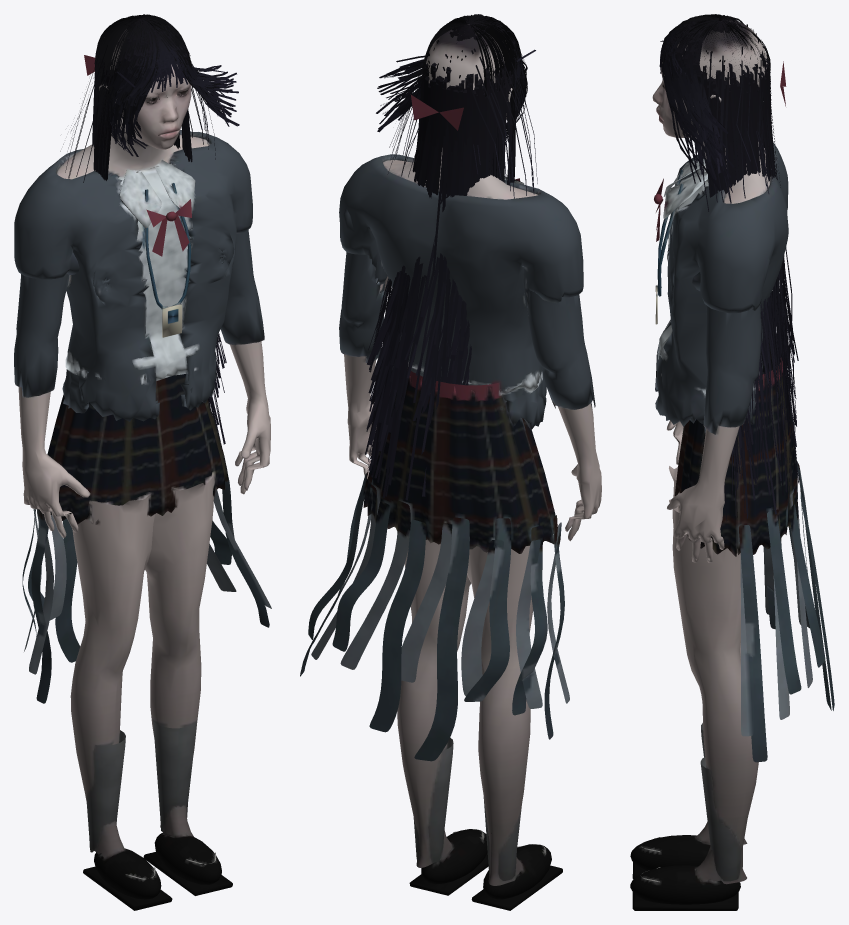
File: corridor.glb
3 views of the same model, side by side, from view 1: azimuth 30°, elevation 25°; view 2: azimuth 150°, elevation 25°; view 3: azimuth 270°, elevation 25° (orthographic). The views are drawn at different scales.
Visible parts, largest first — view 1: GhostBody, GhostHair; view 2: GhostBody, GhostHair; view 3: GhostBody, GhostHair.
Part boxes in pixels (bbox=[...]): GhostBody: bbox=[14, 29, 271, 910]; GhostHair: bbox=[60, 14, 239, 444]; GhostBody: bbox=[300, 24, 601, 910]; GhostHair: bbox=[364, 14, 537, 500]; GhostBody: bbox=[630, 19, 834, 910]; GhostHair: bbox=[659, 14, 798, 521].
Size of the model in its own units: 0.5606 by 1.72 by 0.3654.
Materials: 2 (1 with a texture image).
